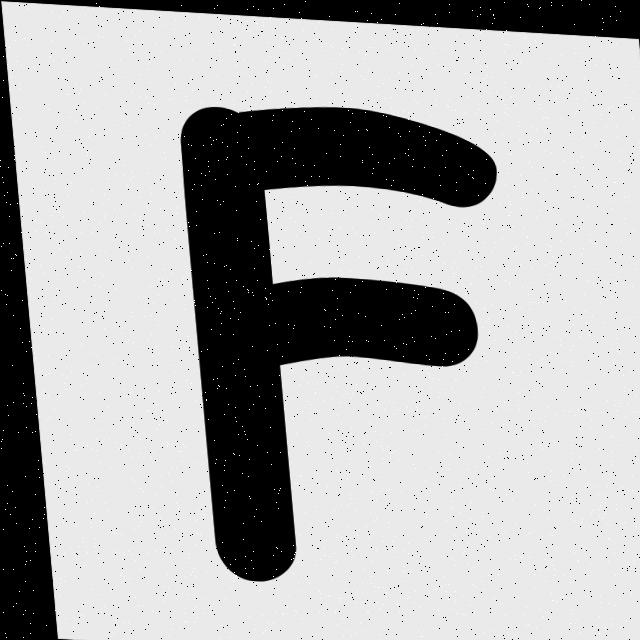F: (179, 104, 494, 577)
